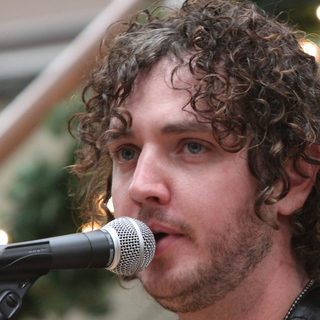eye: (169, 136, 220, 161), (109, 142, 143, 167)
